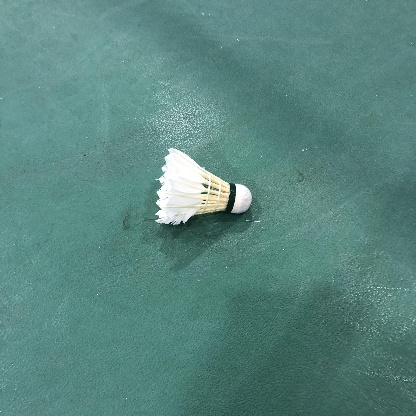ball_single: (155, 148, 252, 225)
